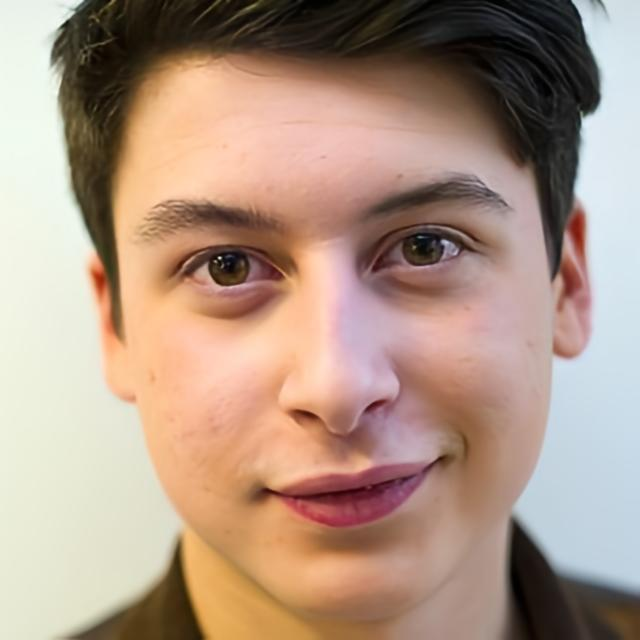content: (114, 38, 554, 618)
